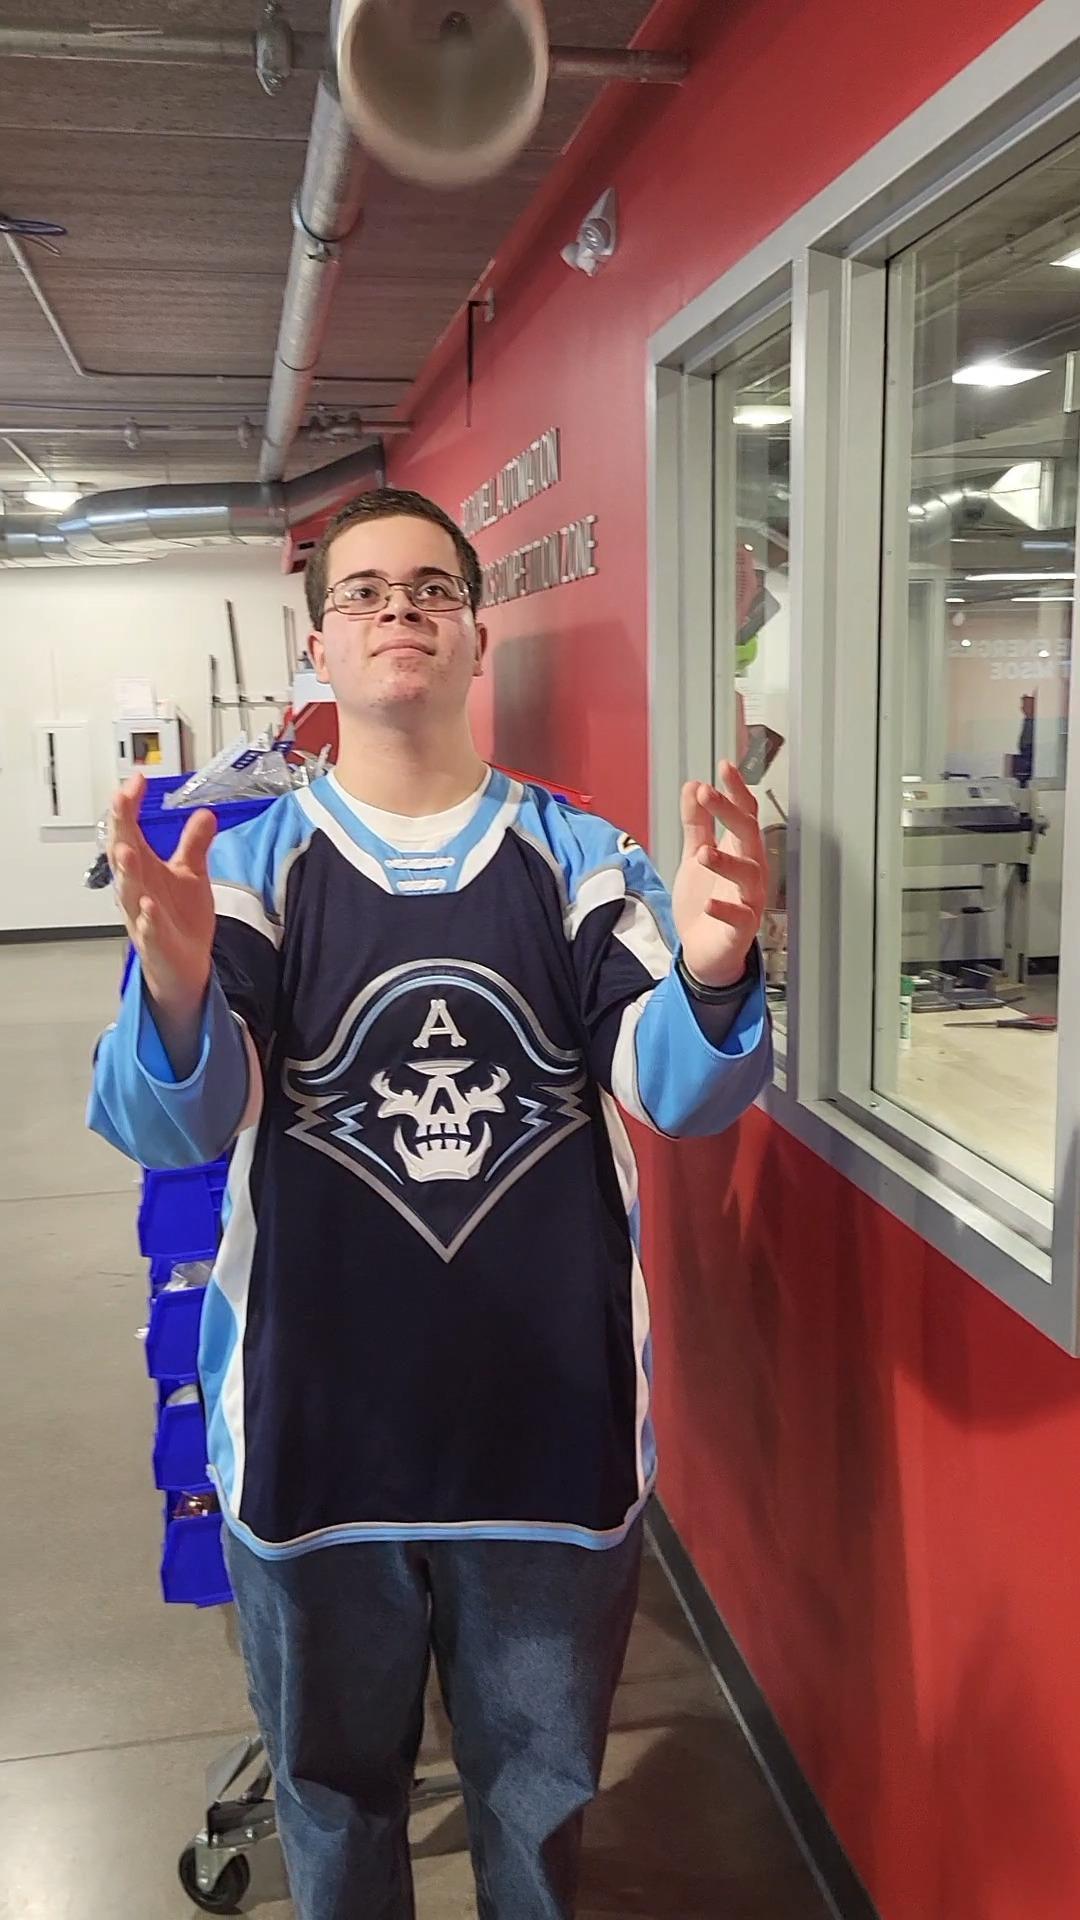coral: (330, 0, 563, 190)
